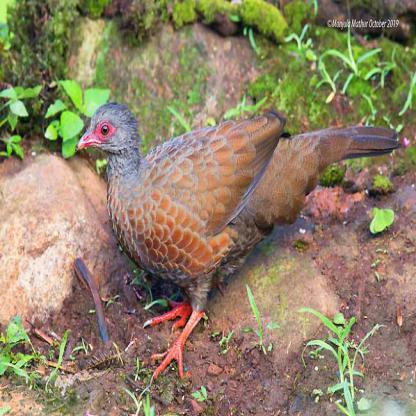Burung: (77, 100, 393, 382)
